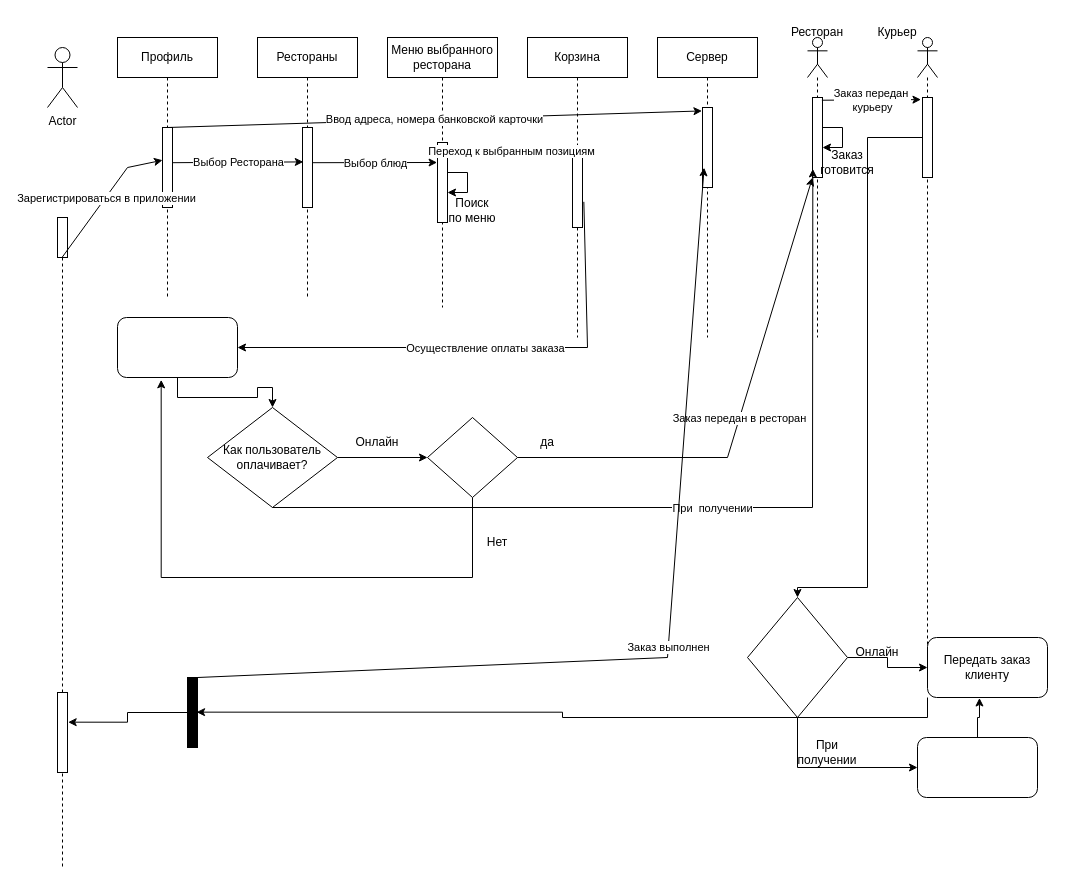
This 1066x885 diagram has some shape labels left out. Each missing label, with the centre of its shape:
"Как пользователь оплачивает заказ?" goes at [797,657].
"Получена оплата?" goes at [472,457].
"Получить деньги" goes at [977,767].
"Экран оплаты заказа" goes at [177,347].
